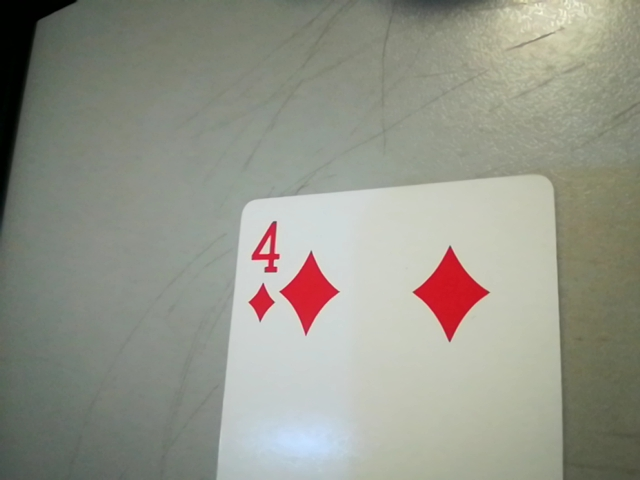fk 4: (234, 212, 289, 330)
